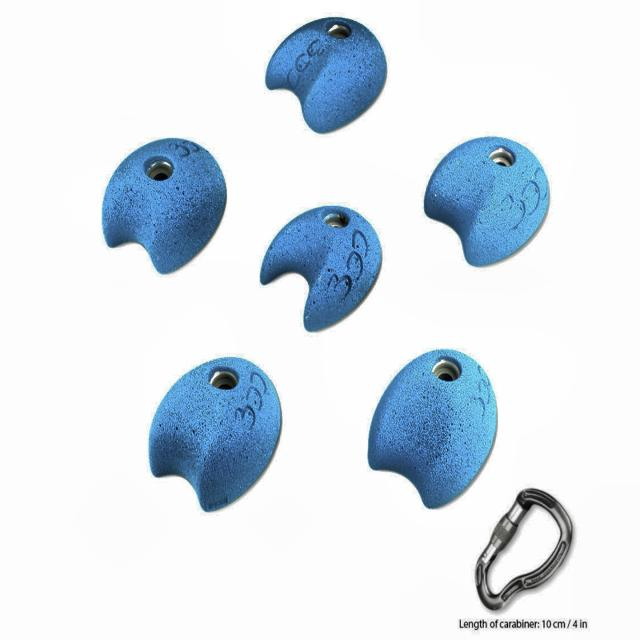Hold: (366, 344, 494, 508), (150, 355, 286, 509), (424, 139, 554, 266), (104, 140, 225, 273), (262, 204, 384, 331), (269, 18, 380, 132)
